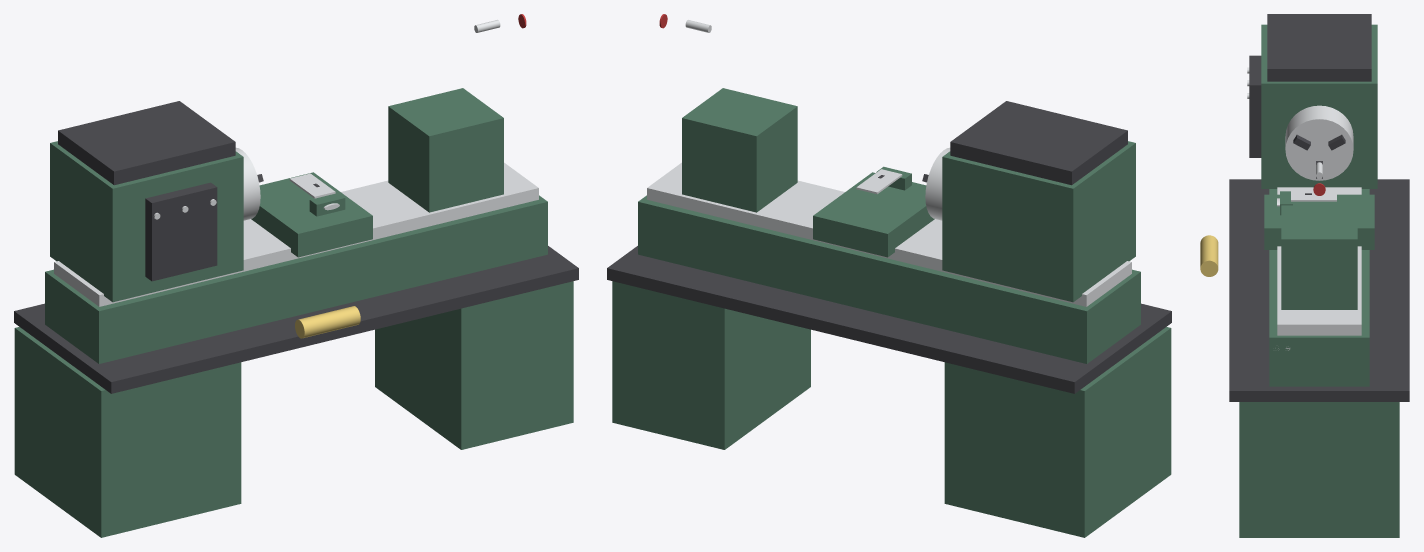
3 views of the same model, side by side, from view 1: azimuth 30°, elevation 25°; view 2: azimuth 150°, elevation 25°; view 3: azimuth 270°, elevation 25° (orthographic). The views are drawn at different scales.
Parts seen in each view (by area): view 1: Base_Left, Bed_Main, Base_Right, Headstock, Chip_Tray, Tailstock, Headstock_Cover, Guide_Rails, Control_Panel, Carriage_Saddle, Workpiece_Raw, Spindle_Chuck; view 2: Base_Left, Bed_Main, Base_Right, Headstock, Chip_Tray, Tailstock, Headstock_Cover, Guide_Rails, Carriage_Saddle, Spindle_Chuck; view 3: Base_Right, Chip_Tray, Headstock, Tailstock, Headstock_Cover, Bed_Main, Spindle_Chuck, Guide_Rails, Carriage_Saddle, Control_Panel, Workpiece_Raw, Cross_Slide.
Part boxes in pixels (x1,y1,x2,y2): Base_Left: (14, 327, 241, 537); Bed_Main: (45, 195, 547, 363); Base_Right: (375, 281, 573, 449); Headstock: (50, 141, 243, 302); Chip_Tray: (14, 246, 578, 393); Tailstock: (388, 88, 503, 212); Headstock_Cover: (58, 101, 235, 185); Guide_Rails: (54, 162, 538, 306); Control_Panel: (145, 182, 217, 281); Carriage_Saddle: (251, 172, 372, 257); Workpiece_Raw: (295, 306, 360, 338); Spindle_Chuck: (235, 147, 260, 220); Base_Left: (944, 327, 1171, 537); Bed_Main: (638, 195, 1140, 363); Base_Right: (612, 281, 810, 449); Headstock: (942, 141, 1135, 302); Chip_Tray: (607, 246, 1171, 393); Tailstock: (682, 88, 797, 212); Headstock_Cover: (950, 101, 1127, 185); Guide_Rails: (647, 162, 1131, 306); Carriage_Saddle: (813, 172, 934, 257); Spindle_Chuck: (925, 147, 950, 220); Base_Right: (1239, 402, 1399, 537); Chip_Tray: (1229, 179, 1409, 401); Headstock: (1261, 24, 1377, 188); Tailstock: (1281, 205, 1357, 309); Headstock_Cover: (1267, 14, 1371, 81); Bed_Main: (1269, 189, 1369, 386); Spindle_Chuck: (1285, 105, 1353, 180); Guide_Rails: (1277, 187, 1361, 335); Carriage_Saddle: (1264, 194, 1374, 249); Control_Panel: (1249, 55, 1261, 157); Workpiece_Raw: (1200, 235, 1218, 276); Cross_Slide: (1291, 190, 1336, 201).
Bounding box in the file's own units: 252 × 194 × 105.
